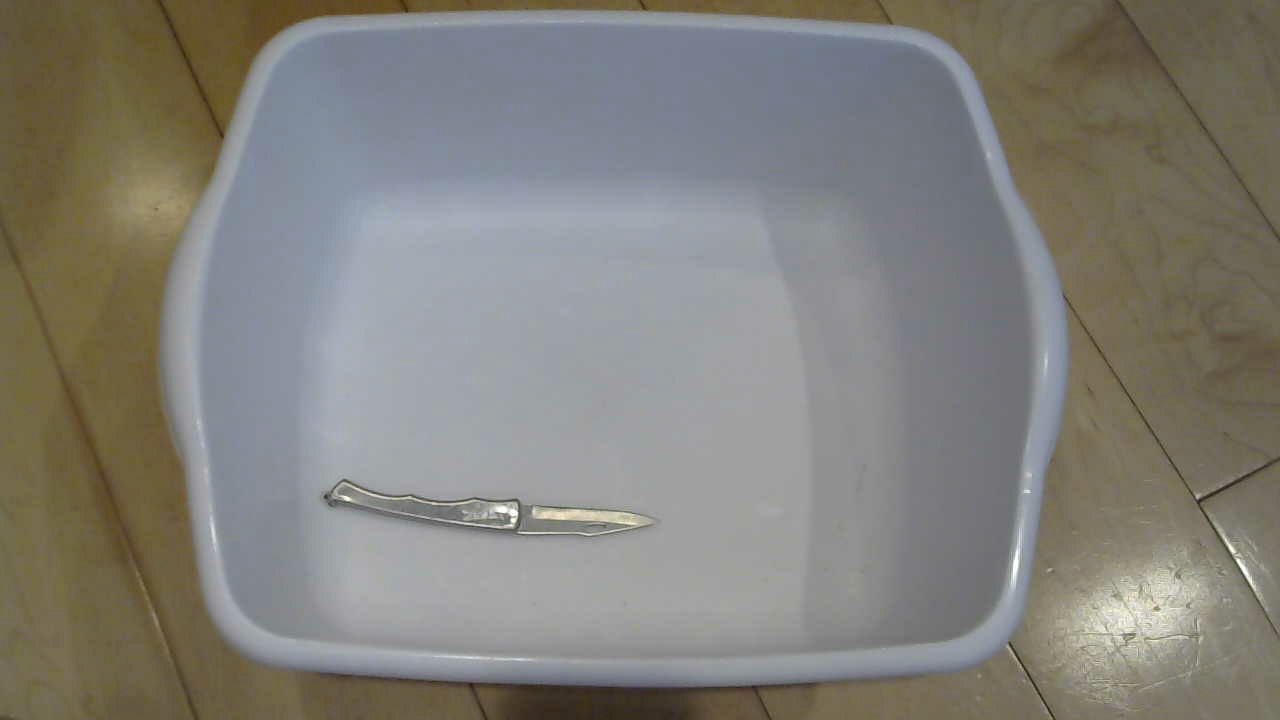knife: (309, 454, 684, 559)
